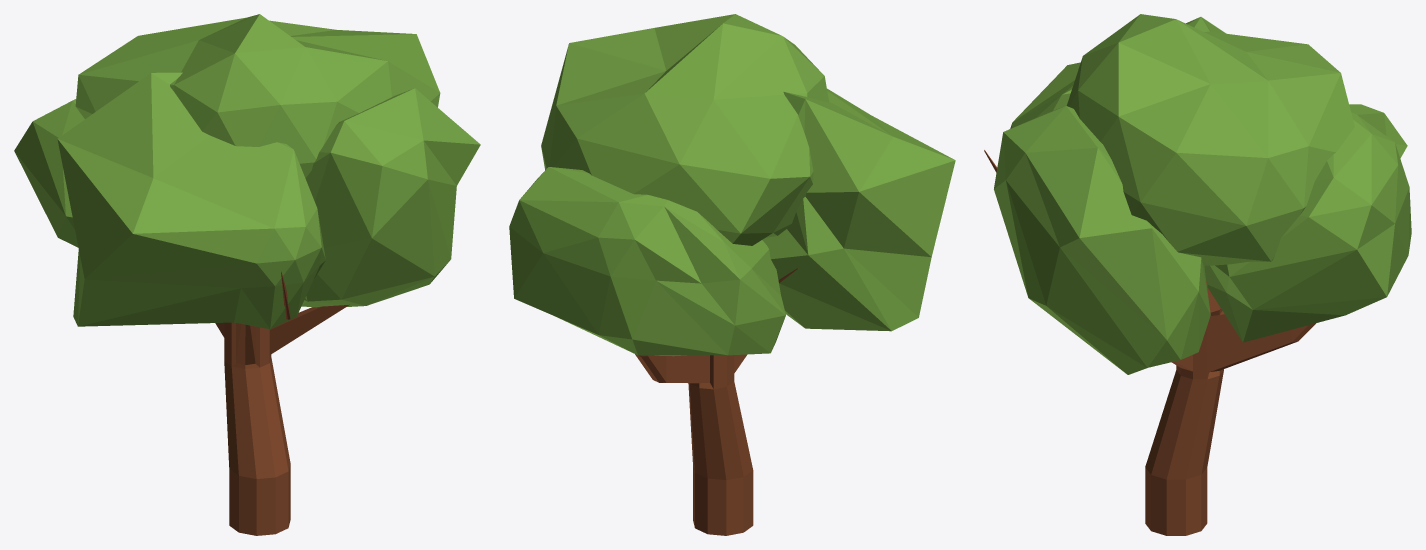
Rendered from lightgreen.fbx.
The picture shows the model from 3 angles, left to right: view 1: azimuth 30°, elevation 25°; view 2: azimuth 150°, elevation 25°; view 3: azimuth 270°, elevation 25°; orthographic projection.
Visible parts, largest first — view 1: Icosphere.010; view 2: Icosphere.010; view 3: Icosphere.010.
Part boxes in pixels (x1=…): Icosphere.010: x1=14, y1=14, x2=480, y2=535; Icosphere.010: x1=509, y1=14, x2=955, y2=535; Icosphere.010: x1=984, y1=14, x2=1411, y2=535.
Size of the model in its own units: 1356 by 1790 by 1375.
1 material, 1 textured.
